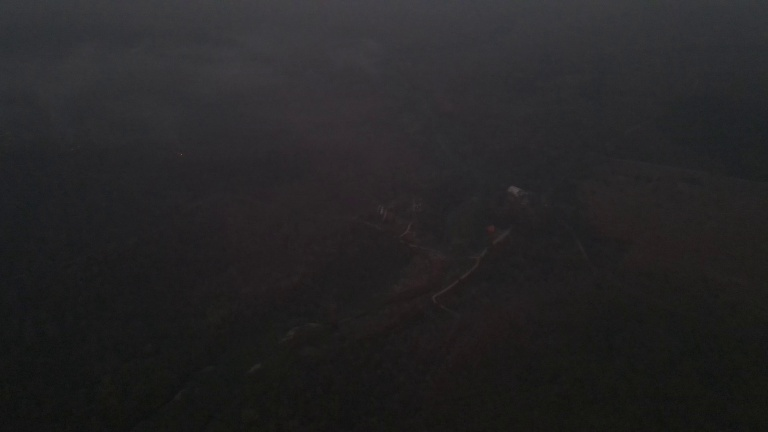fire: (177, 151, 187, 159)
smoke: (24, 39, 209, 144)
